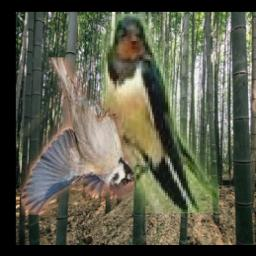Sparrow: (22, 58, 135, 216)
Swallow: (101, 15, 219, 214)
